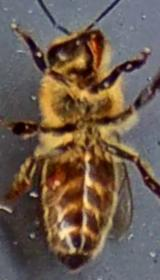varroa_mite: (39, 156, 75, 198)
